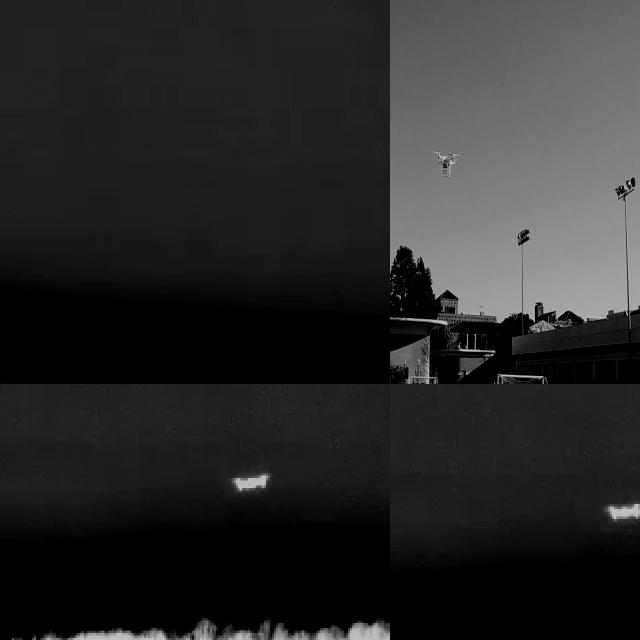1: (222, 466, 282, 502), (596, 496, 640, 531)
drone: (434, 146, 461, 176)
